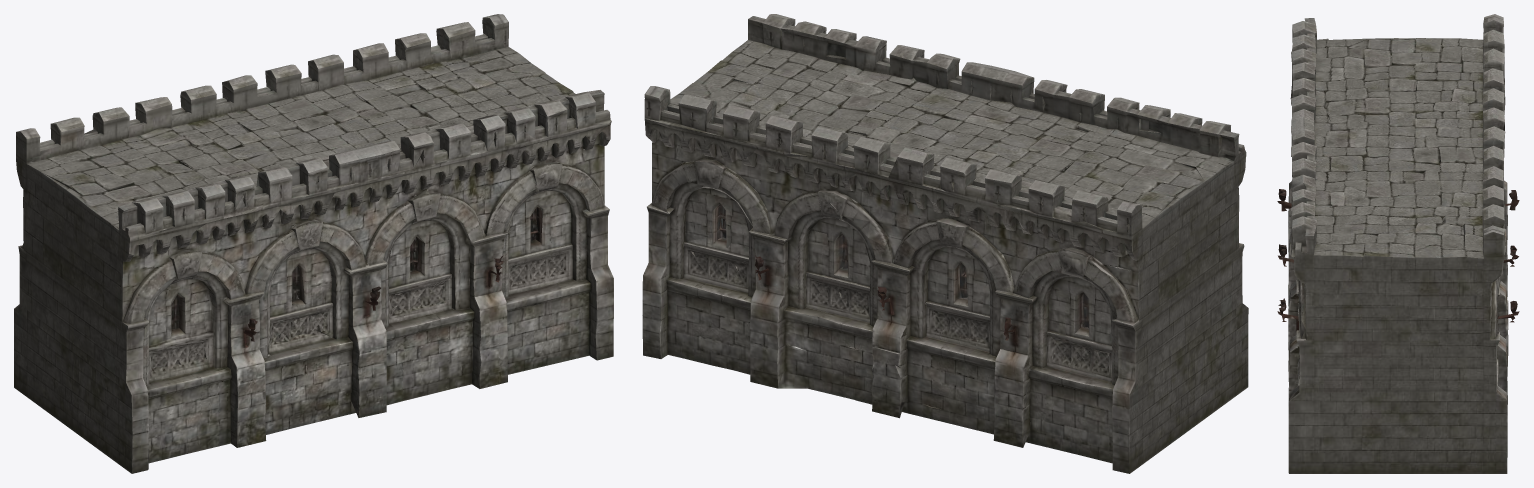
Rendered from fort_m_citadel_wall.glb.
3 views of the same model, side by side, from view 1: azimuth 30°, elevation 25°; view 2: azimuth 150°, elevation 25°; view 3: azimuth 270°, elevation 25° (orthographic). The views are drawn at different scales.
Visible parts, largest first — view 1: fort_m_citadel_wall; view 2: fort_m_citadel_wall; view 3: fort_m_citadel_wall.
Part boxes in pixels (left/top/right/bottom): fort_m_citadel_wall: left=14, top=14, right=613, bottom=473; fort_m_citadel_wall: left=642, top=14, right=1248, bottom=473; fort_m_citadel_wall: left=1277, top=14, right=1519, bottom=473.
Bounding box in the file's own units: 1.9 × 0.987 × 0.8912.
1 material, 1 textured.
